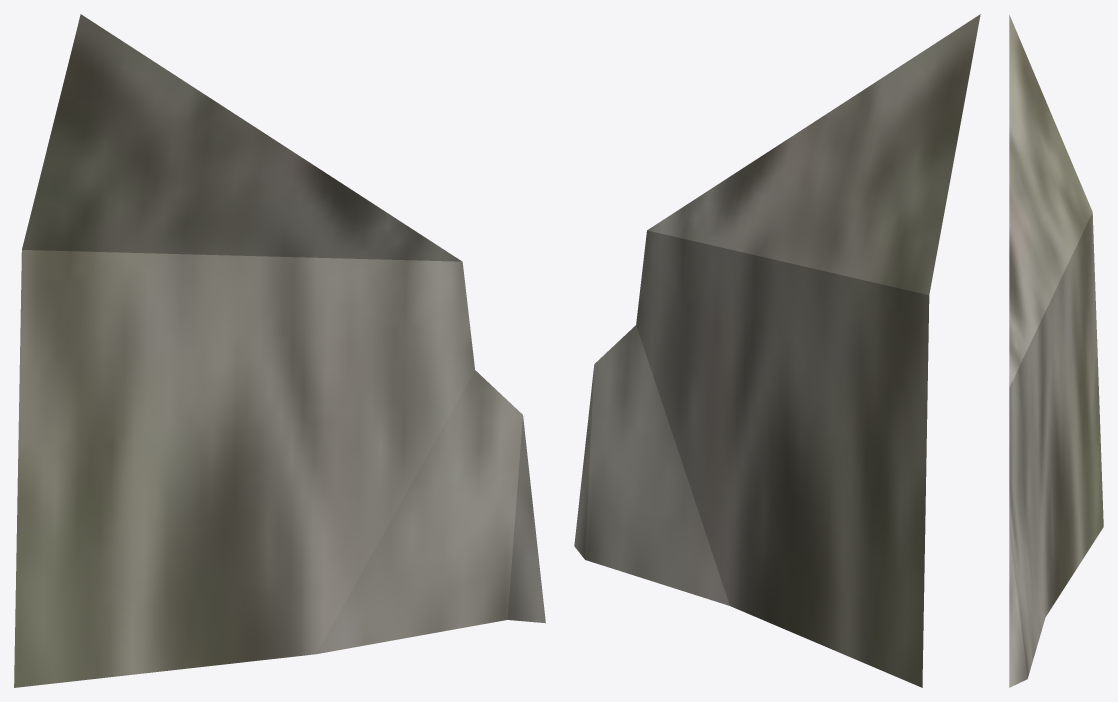
The picture shows the model from 3 angles, left to right: view 1: azimuth 30°, elevation 25°; view 2: azimuth 150°, elevation 25°; view 3: azimuth 270°, elevation 25°; orthographic projection. The views are drawn at different scales.
Size of the model in its own units: 0.5228 by 0.7761 by 0.1297.
Materials: 1 (1 with a texture image).
